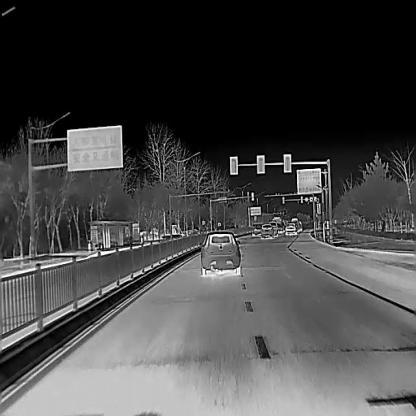car: (198, 232, 243, 276), (270, 216, 283, 233), (261, 223, 274, 237), (285, 222, 296, 236), (267, 220, 277, 235), (290, 217, 300, 232), (251, 223, 261, 237)
